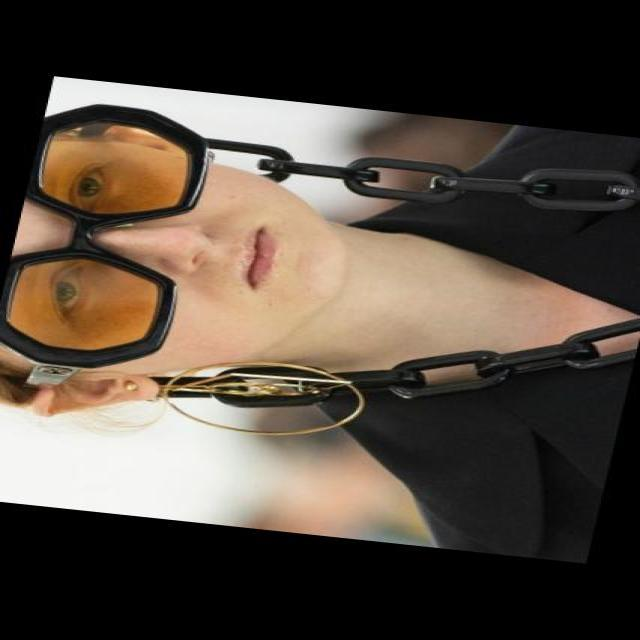glasses: (0, 95, 222, 381)
